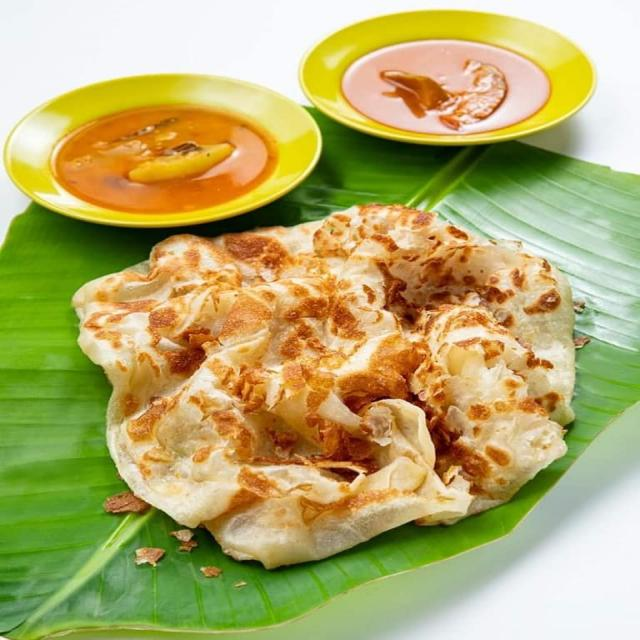Paratha: (51, 235, 564, 553)
